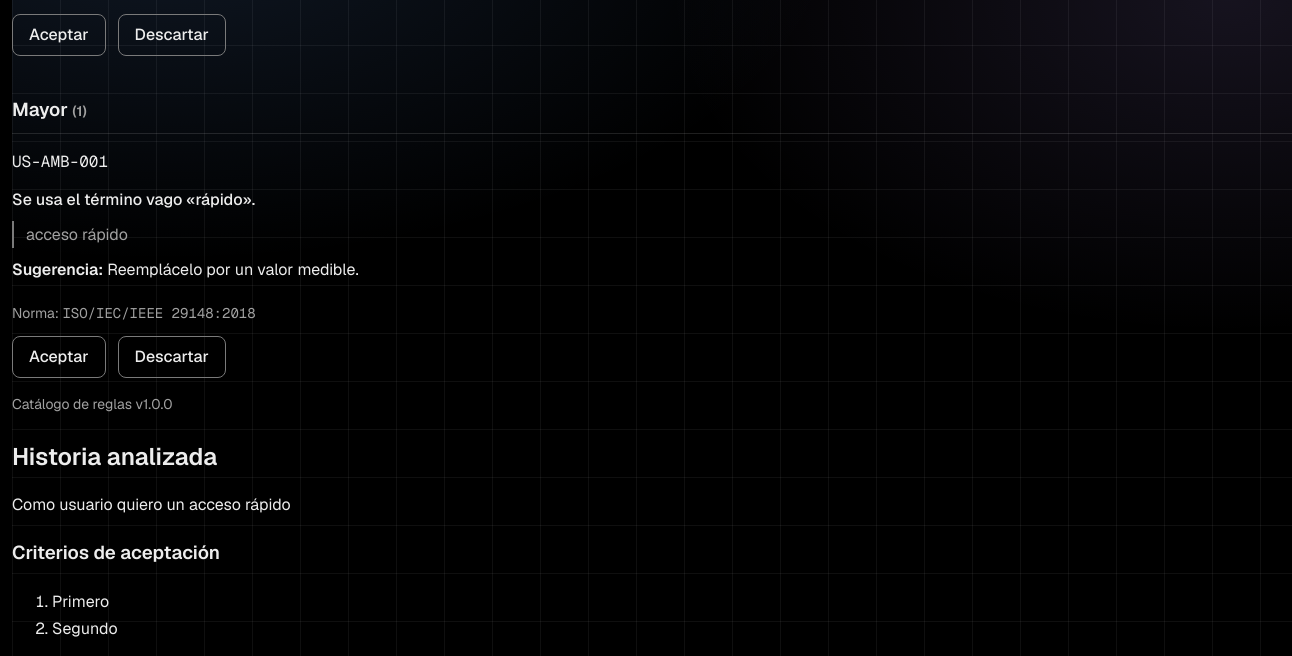
Test: AnalysisPage - decisiones › descartar sin motivo no envía la petición
(page scrolled)
What coordinates should you click on to do the following:
click the button "Descartar" below "US-AMB-001"
I would click on:
 (172, 357)
Its box is [118,336,226,378].
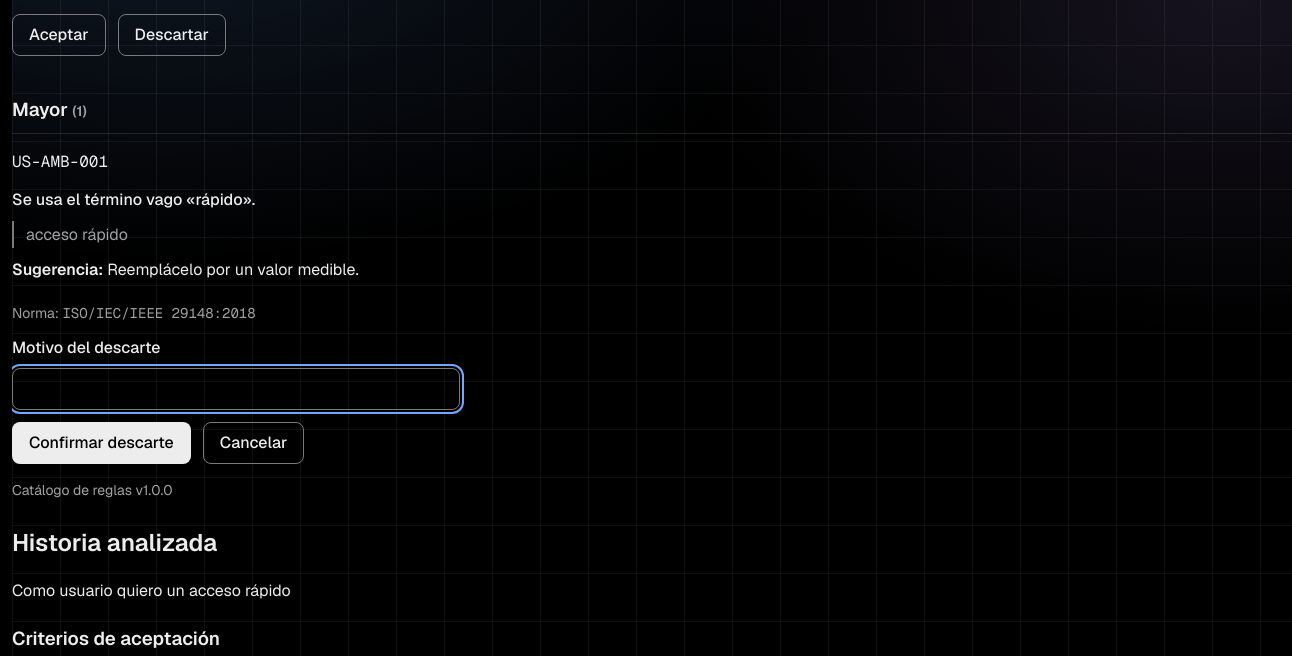
What coordinates should you click on to do the following:
click the button "Confirmar descarte"
I would click on:
 (101, 443)
Its box is [12,422,191,464].
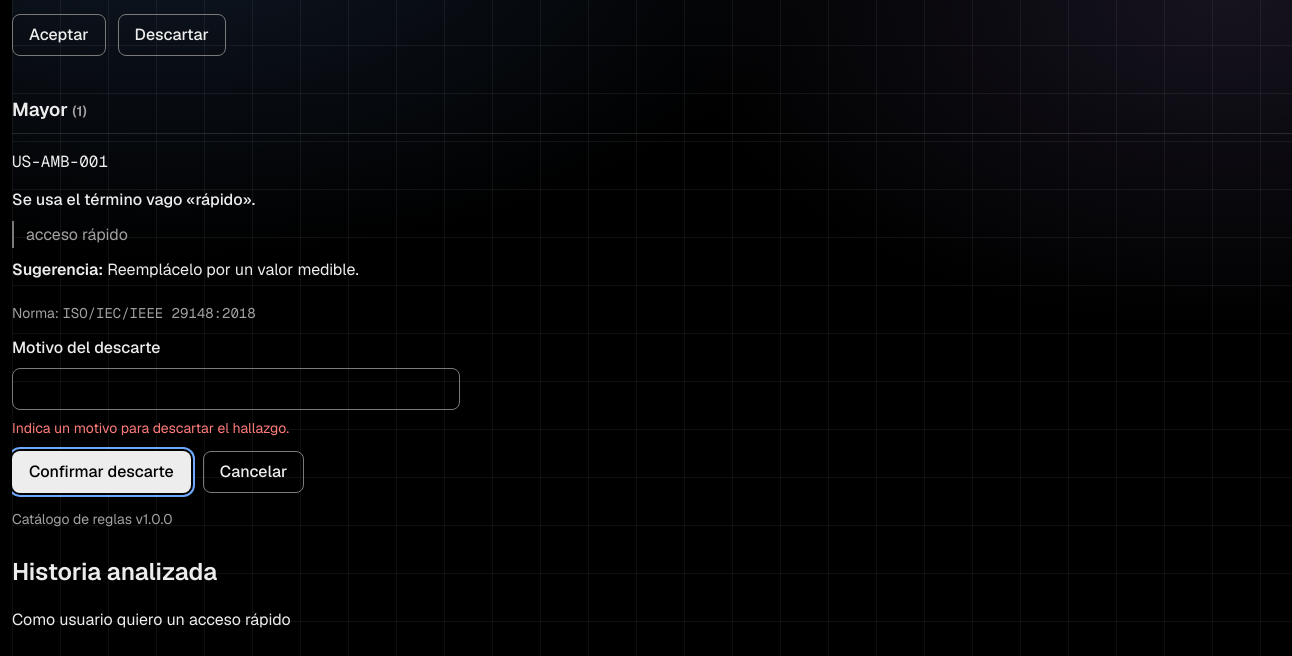
Check: the text "Indica un motivo para descartar el hallazgo." is shown, box [12,419,289,437]
